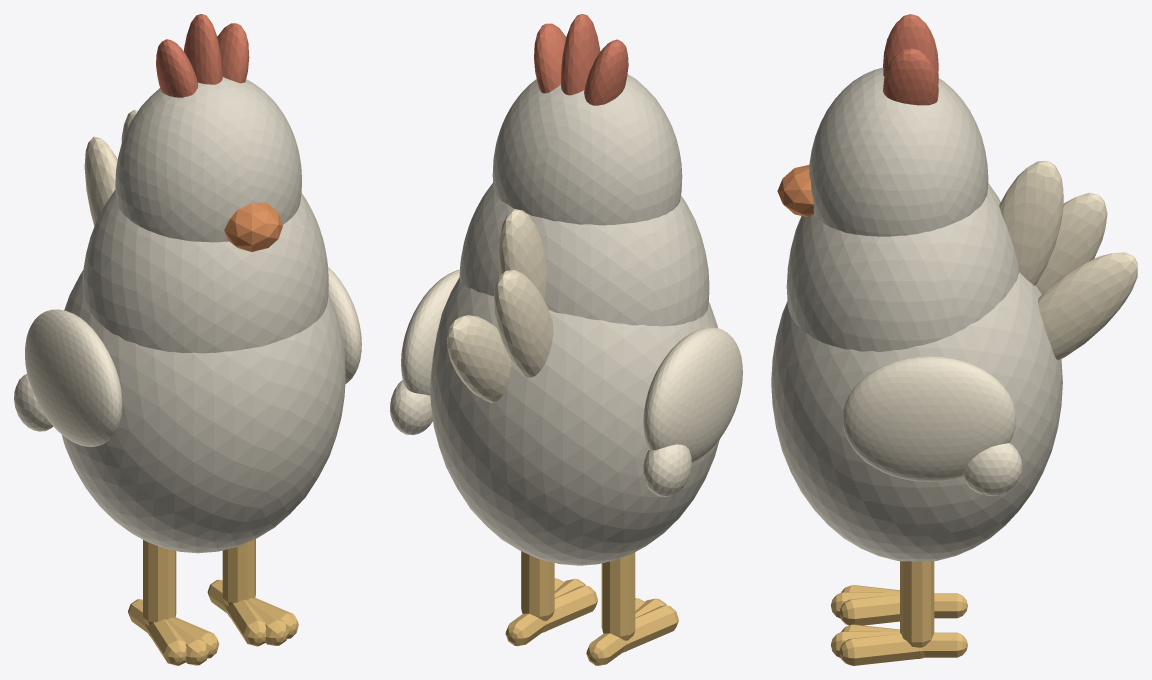
Rendered from rooster.glb.
3 renders of one model, left to right at view 1: azimuth 30°, elevation 25°; view 2: azimuth 150°, elevation 25°; view 3: azimuth 270°, elevation 25°, orthographic.
Parts seen in each view (by area): view 1: Body, Chest, Head, Wing_R, Leg_R, Beak, Tail_0, Comb_1, Leg_L, Wing_L, Comb_0, Comb_2 (+7 smaller); view 2: Body, Head, Chest, Wing_R, Tail_0, Tail_2, Wing_L, Tail_1, Leg_R, Comb_1, Comb_0, Wing_R_n (+7 smaller); view 3: Body, Chest, Head, Wing_L, Tail_2, Tail_1, Tail_0, Leg_L, Comb_2, Wing_L_n, Toe_L_2, Comb_1 (+6 smaller).
Part boxes in pixels (box(x1,y1,x2,y2)): Body: box(62, 270, 345, 553); Chest: box(82, 189, 328, 353); Head: box(115, 77, 301, 242); Wing_R: box(25, 309, 122, 446); Leg_R: box(143, 540, 176, 625); Beak: box(224, 202, 282, 251); Tail_0: box(84, 136, 117, 225); Comb_1: box(184, 14, 222, 84); Leg_L: box(222, 539, 255, 606); Wing_L: box(328, 267, 361, 383); Comb_0: box(156, 39, 198, 97); Comb_2: box(217, 23, 249, 83); Body: box(430, 277, 719, 565); Head: box(492, 74, 682, 225); Chest: box(459, 183, 709, 326); Wing_R: box(643, 327, 742, 462); Tail_0: box(494, 270, 553, 377); Tail_2: box(446, 315, 511, 402); Wing_L: box(401, 269, 459, 395); Tail_1: box(498, 209, 546, 299); Leg_R: box(601, 552, 635, 640); Comb_1: box(561, 14, 600, 95); Comb_0: box(584, 39, 628, 105); Wing_R_n: box(643, 444, 691, 496); Body: box(771, 272, 1062, 561); Chest: box(786, 183, 1019, 351); Head: box(809, 67, 988, 236); Wing_L: box(842, 356, 1016, 481); Tail_2: box(1038, 252, 1137, 360); Tail_1: box(999, 161, 1063, 285); Tail_0: box(1036, 192, 1107, 294); Leg_L: box(900, 561, 934, 647); Comb_2: box(883, 48, 938, 105); Wing_L_n: box(962, 443, 1022, 496); Toe_L_2: box(840, 633, 923, 665); Comb_1: box(883, 14, 938, 83).
Bounding box in the file's own units: 0.2547 × 0.5238 × 0.2786.
